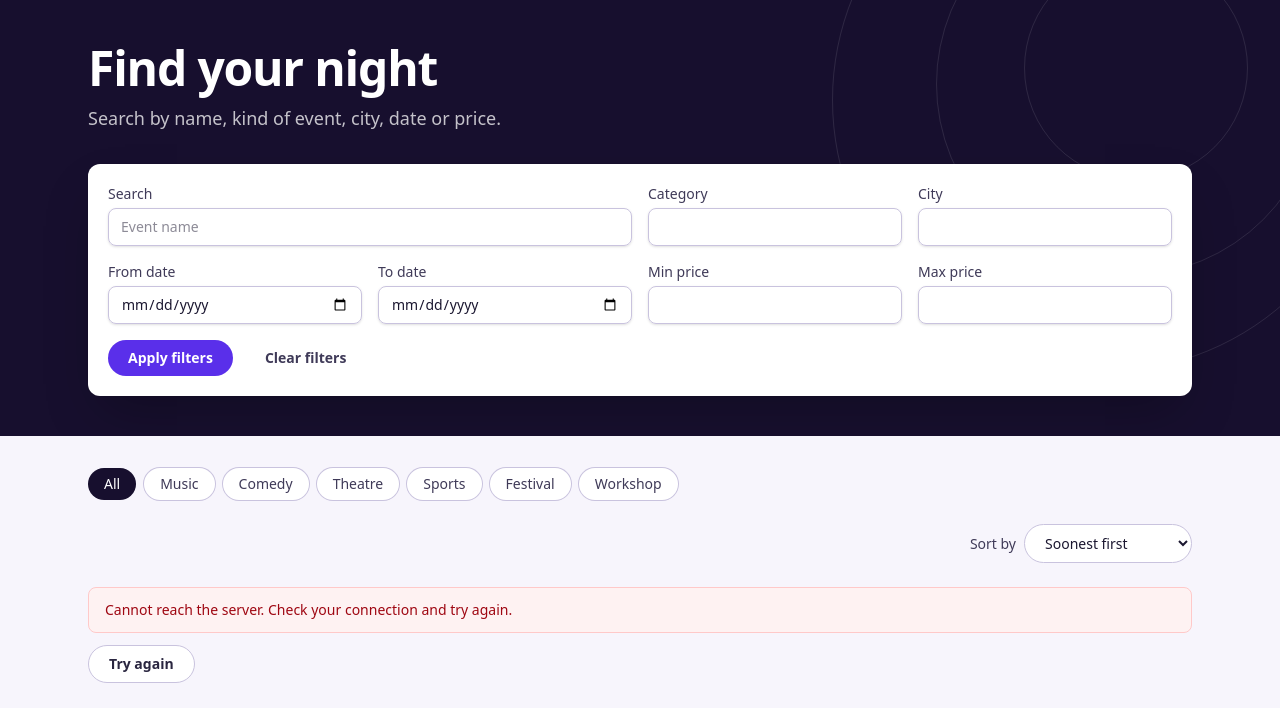
Test: EventsPage › shows a friendly error and lets the person try again
Expected: the message shows "Cannot reach the server", [105,600,512,619]
Click the button "Try again". click: point(141, 664)
box: [88,645,195,683]
(page scrolled)
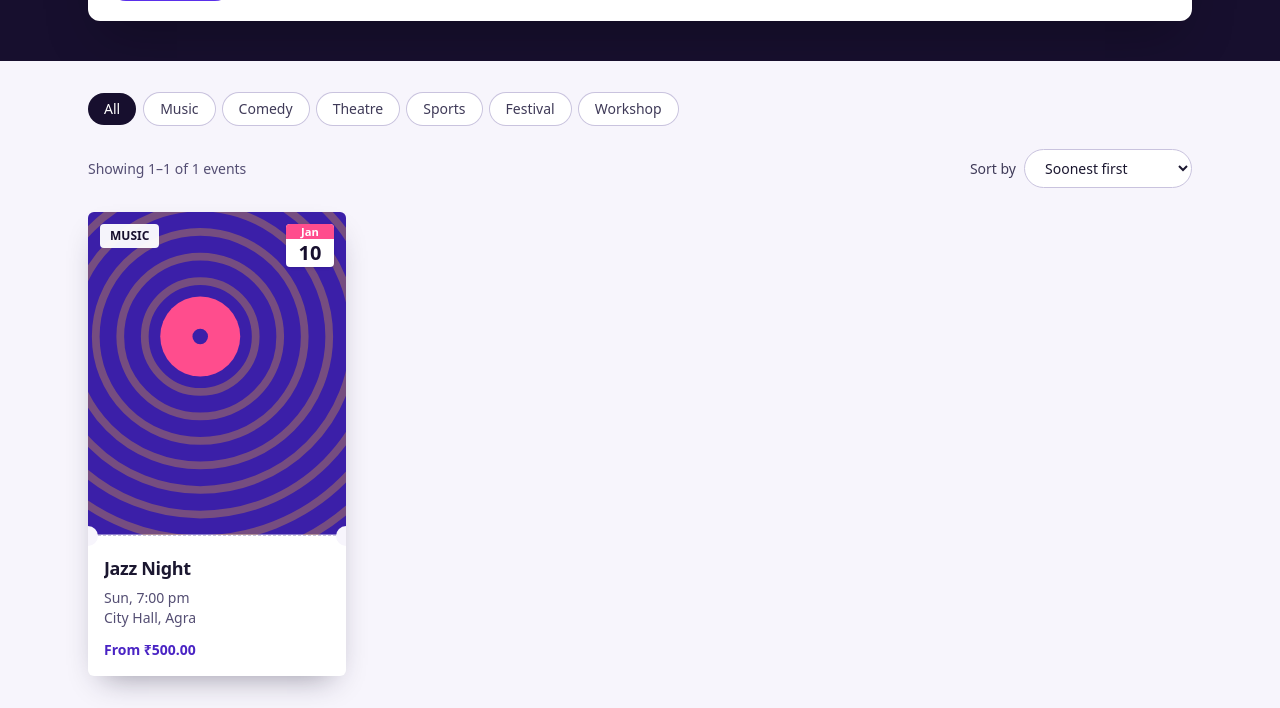
Now the heading "Jazz Night" is shown, box [104,556,191,580]
